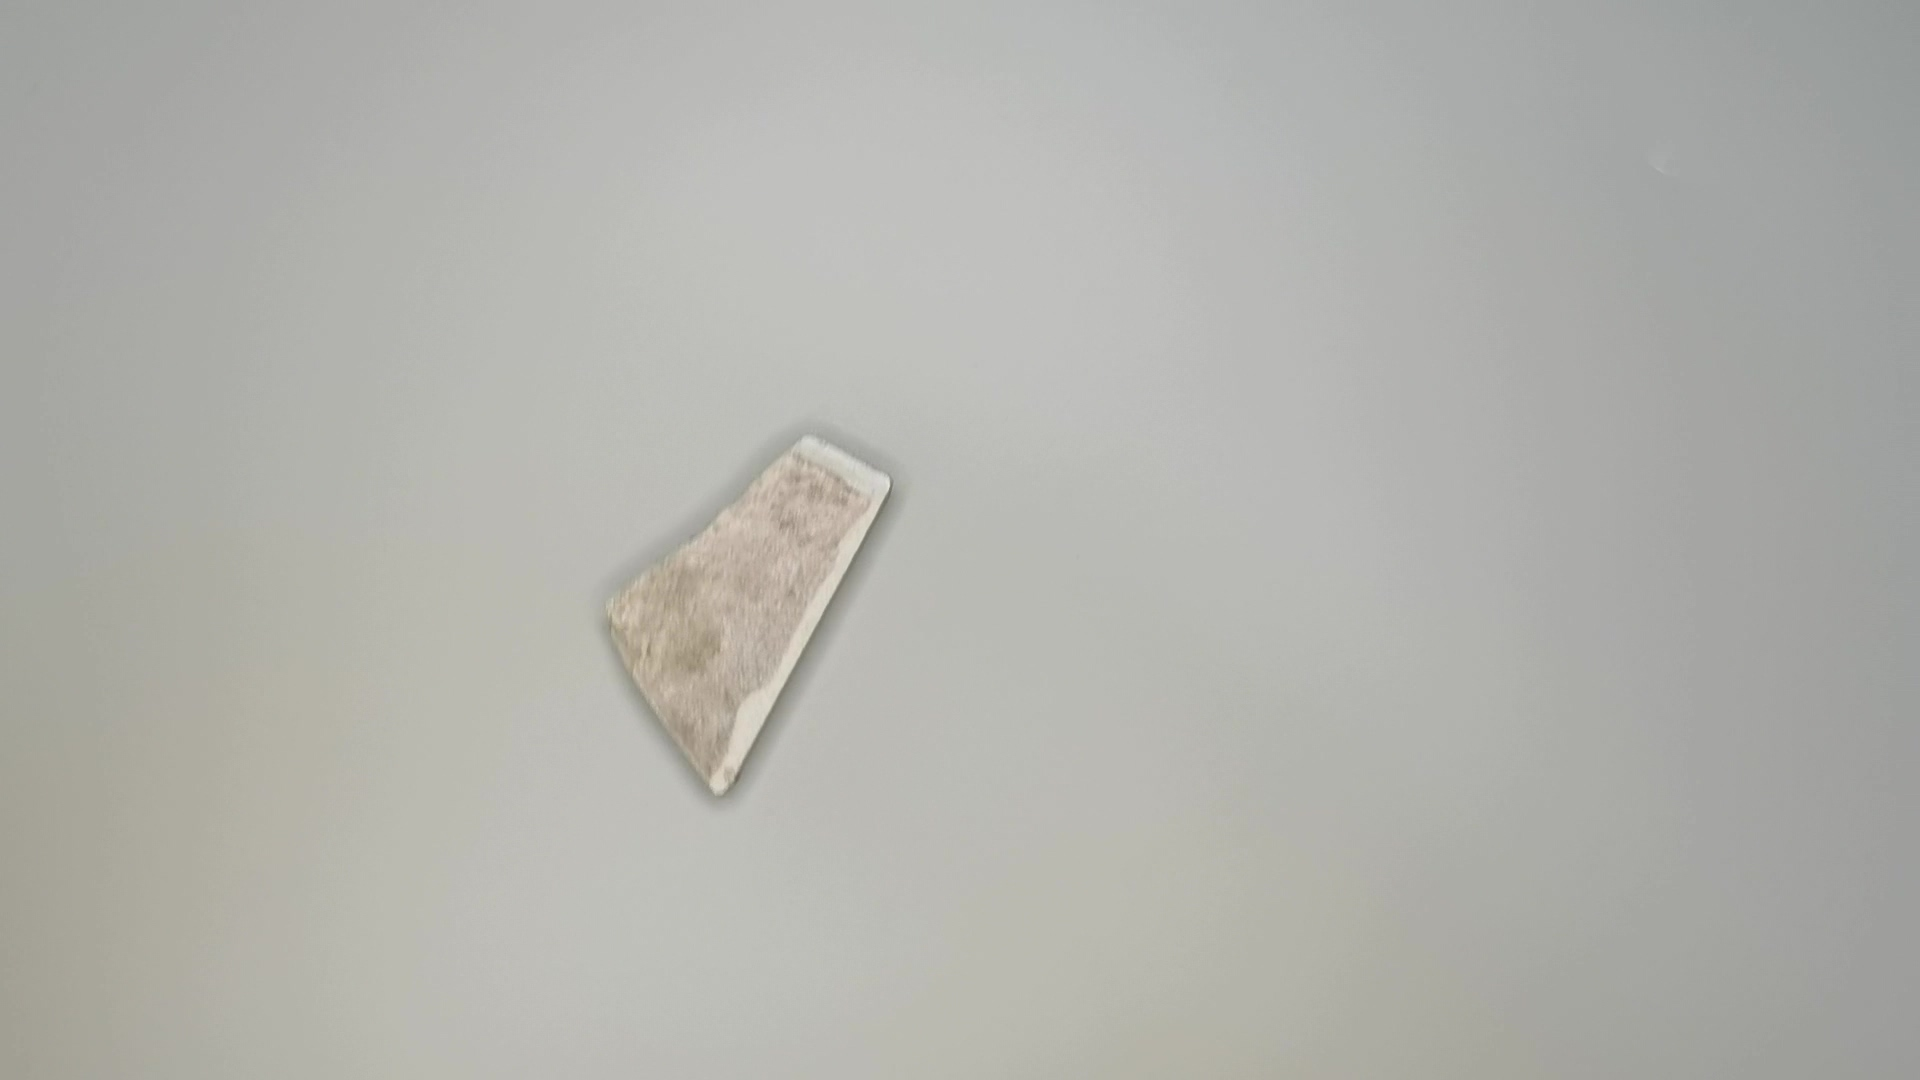ceramic: (601, 427, 897, 811)
